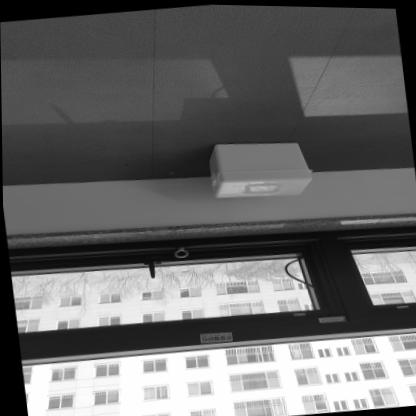DDL: (202, 131, 313, 202)
